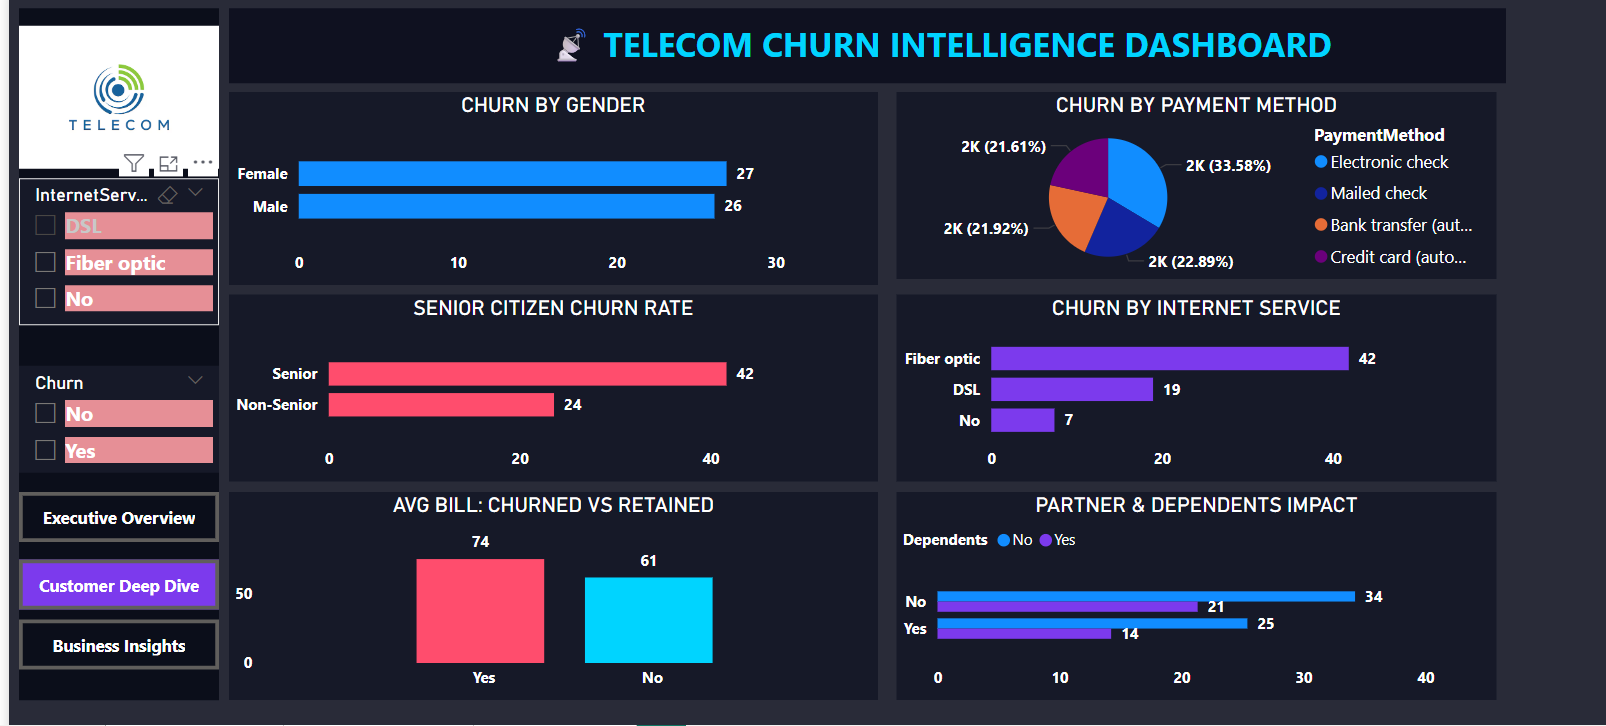

This screenshot's page, from the dashboard's own definition file:
{"tool":"powerbi","page":{"name":"Customer Deep Dive","canvas":[1280,720],"ordinal":1},"visuals":[{"type":"shape","box":[8,13,160,554],"z":0},{"type":"shape","box":[176,13,1022,60],"z":1000},{"type":"textbox","box":[215,18,1060,50],"z":2000},{"type":"image","box":[8,23,160,123],"z":3000},{"type":"actionButton","box":[8,400,160,40],"z":4000},{"type":"actionButton","box":[8,454,160,40],"z":5000},{"type":"actionButton","box":[8,502,160,40],"z":6000},{"type":"slicer","fields":{"Values":["WA_Fn-UseC_-Telco-Customer-Churn.Churn"]},"box":[8,299,160,86],"z":7000},{"type":"clusteredBarChart","title":"CHURN BY GENDER","fields":{"Category":["WA_Fn-UseC_-Telco-Customer-Churn.gender"],"Y":["WA_Fn-UseC_-Telco-Customer-Churn.Churn Rate %"]},"box":[176,80,519,155],"z":8000},{"type":"clusteredBarChart","title":"CHURN BY INTERNET SERVICE","fields":{"Category":["WA_Fn-UseC_-Telco-Customer-Churn.InternetService"],"Y":["WA_Fn-UseC_-Telco-Customer-Churn.Churn Rate %"]},"box":[710,242,480,150],"z":9000},{"type":"pieChart","title":"CHURN BY PAYMENT METHOD","fields":{"Y":["WA_Fn-UseC_-Telco-Customer-Churn.Total Customers"],"Category":["WA_Fn-UseC_-Telco-Customer-Churn.PaymentMethod"]},"box":[710,80,480,150],"z":10000},{"type":"clusteredBarChart","title":"SENIOR CITIZEN CHURN RATE","fields":{"Y":["WA_Fn-UseC_-Telco-Customer-Churn.Churn Rate %"],"Category":["WA_Fn-UseC_-Telco-Customer-Churn.Senior Status"]},"box":[176,242,519,150],"z":11000},{"type":"clusteredColumnChart","title":"AVG BILL: CHURNED VS RETAINED","fields":{"Category":["WA_Fn-UseC_-Telco-Customer-Churn.Churn"],"Y":["WA_Fn-UseC_-Telco-Customer-Churn.Avg Monthly Charges"]},"box":[176,400,519,167],"z":12000},{"type":"clusteredBarChart","title":"PARTNER & DEPENDENTS IMPACT","fields":{"Category":["WA_Fn-UseC_-Telco-Customer-Churn.Partner"],"Y":["WA_Fn-UseC_-Telco-Customer-Churn.Churn Rate %"],"Series":["WA_Fn-UseC_-Telco-Customer-Churn.Dependents"]},"box":[710,400,480,167],"z":13000},{"type":"slicer","fields":{"Values":["WA_Fn-UseC_-Telco-Customer-Churn.InternetService"]},"box":[8,149,160,118],"z":14000}]}

Visuals, with their boxes on the page's 1280x720 design canvas (x1, y1, x2, y2). These are canvas units, not pixel positions in the 1606x726 screenshot, which may show the page scaled, cropped or inside an application window:
shape: (x1=8, y1=13, x2=168, y2=567)
shape: (x1=176, y1=13, x2=1198, y2=73)
textbox: (x1=215, y1=18, x2=1275, y2=68)
image: (x1=8, y1=23, x2=168, y2=146)
actionButton: (x1=8, y1=400, x2=168, y2=440)
actionButton: (x1=8, y1=454, x2=168, y2=494)
actionButton: (x1=8, y1=502, x2=168, y2=542)
slicer - WA_Fn-UseC_-Telco-Customer-Churn.Churn: (x1=8, y1=299, x2=168, y2=385)
"CHURN BY GENDER" clusteredBarChart: (x1=176, y1=80, x2=695, y2=235)
"CHURN BY INTERNET SERVICE" clusteredBarChart: (x1=710, y1=242, x2=1190, y2=392)
"CHURN BY PAYMENT METHOD" pieChart: (x1=710, y1=80, x2=1190, y2=230)
"SENIOR CITIZEN CHURN RATE" clusteredBarChart: (x1=176, y1=242, x2=695, y2=392)
"AVG BILL: CHURNED VS RETAINED" clusteredColumnChart: (x1=176, y1=400, x2=695, y2=567)
"PARTNER & DEPENDENTS IMPACT" clusteredBarChart: (x1=710, y1=400, x2=1190, y2=567)
slicer - WA_Fn-UseC_-Telco-Customer-Churn.InternetService: (x1=8, y1=149, x2=168, y2=267)
